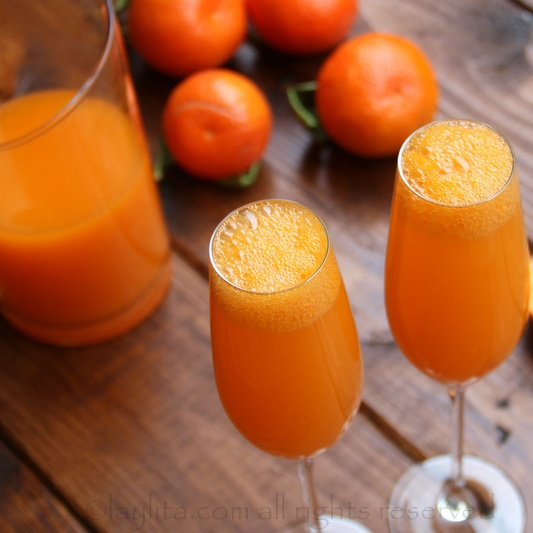mandarin: (316, 34, 441, 156), (163, 67, 272, 177), (128, 1, 252, 71), (246, 1, 357, 60)
